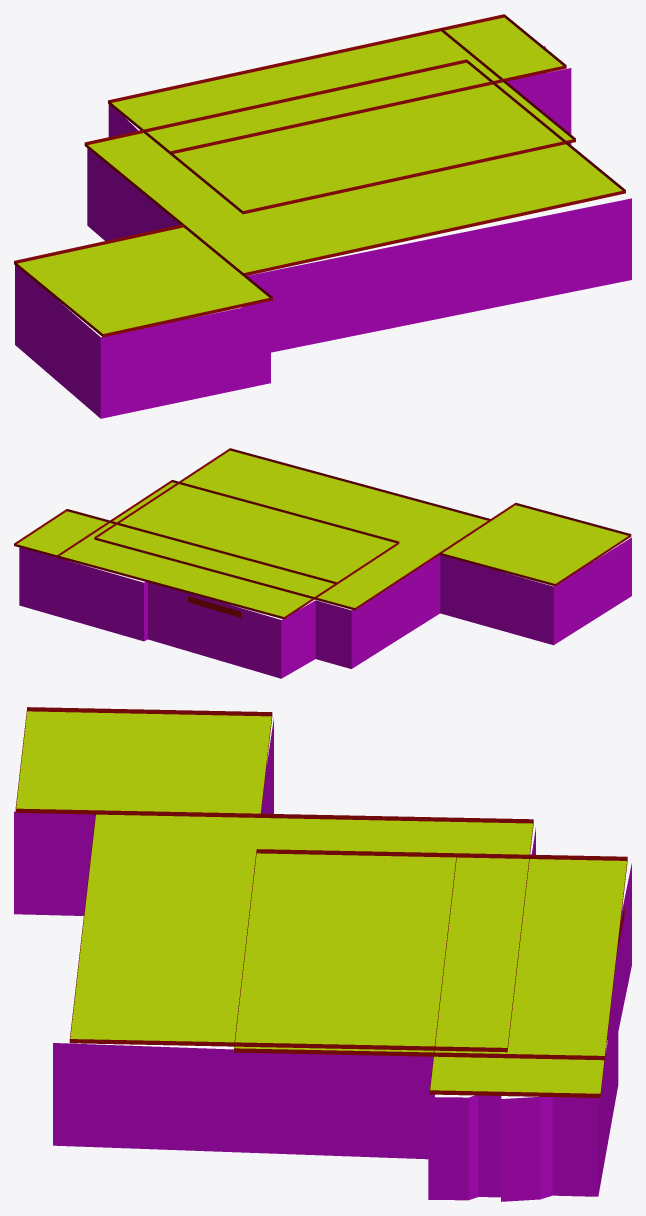
File: rmc_119.glb
3 views of the same model, one above another, from view 1: azimuth 30°, elevation 25°; view 2: azimuth 150°, elevation 25°; view 3: azimuth 270°, elevation 25° (orthographic). The views are drawn at different scales.
Visible parts, largest first — view 1: rmc_119; view 2: rmc_119; view 3: rmc_119.
Part boxes in pixels (x1,y1,x2,y2): rmc_119: [14, 14, 631, 418]; rmc_119: [14, 448, 631, 678]; rmc_119: [14, 707, 631, 1201].
Size of the model in its own units: 68.29 by 8.77 by 45.89.
